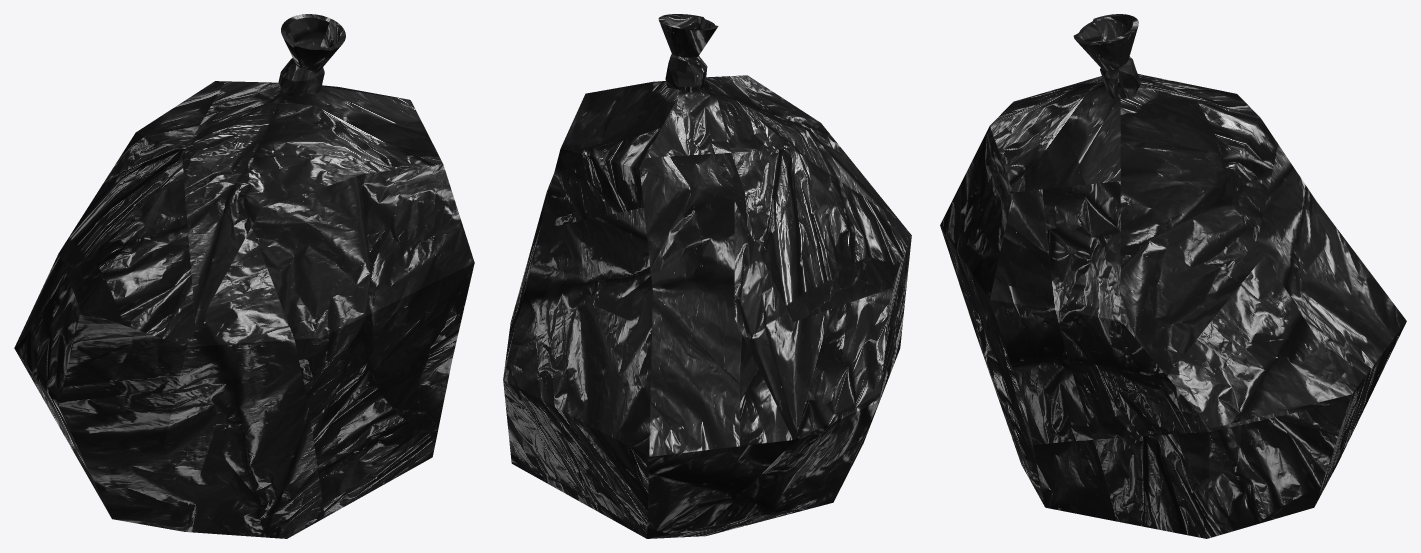
File: pakert.fbx
3 views of the same model, side by side, from view 1: azimuth 30°, elevation 25°; view 2: azimuth 150°, elevation 25°; view 3: azimuth 270°, elevation 25° (orthographic). The views are drawn at different scales.
Parts seen in each view (by area): view 1: Cube; view 2: Cube; view 3: Cube.
Boxes of the visible parts, box(x1,y1,x2,y2) form: Cube: box(14, 14, 474, 538); Cube: box(503, 14, 911, 538); Cube: box(940, 14, 1406, 538).
Bounding box in the file's own units: 207 × 267 × 217.
